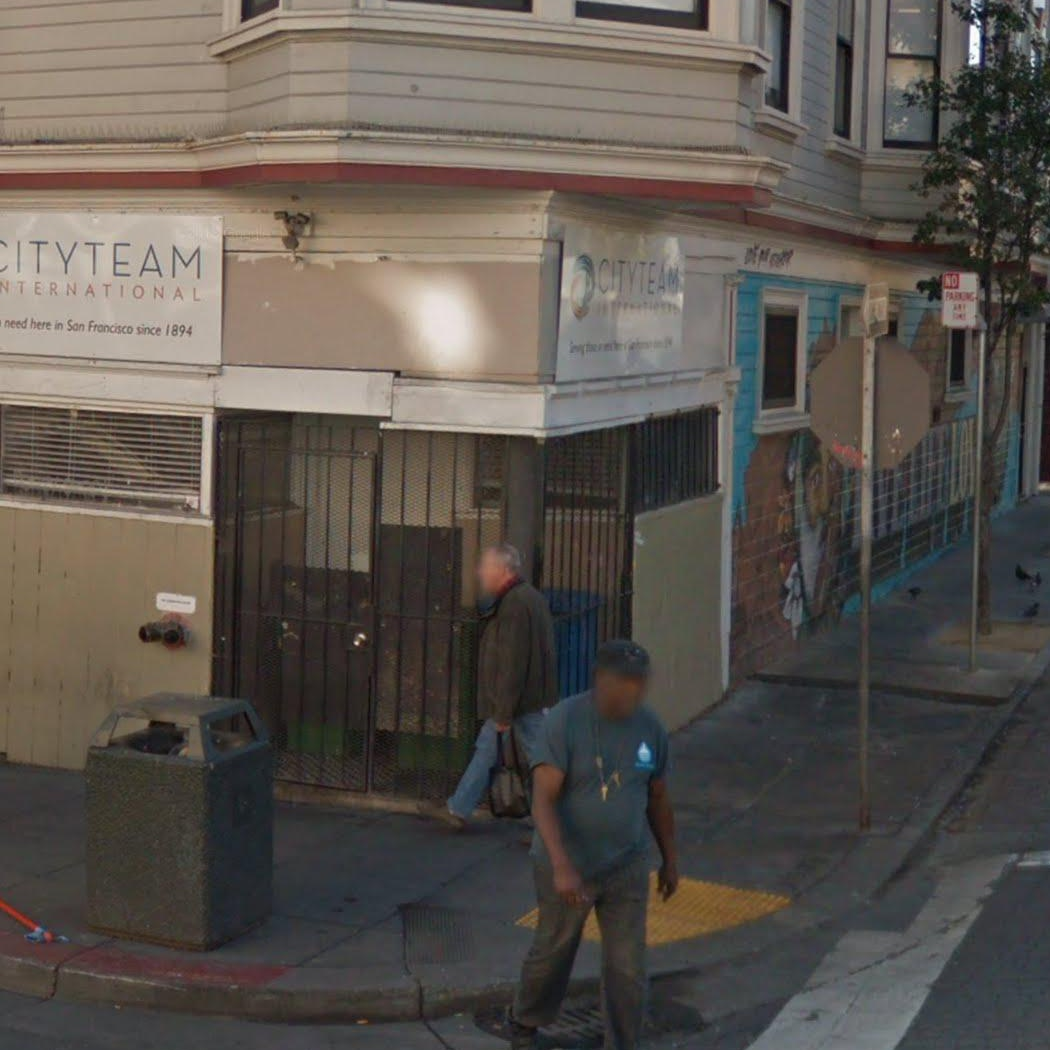No Parking Anytime: (938, 270, 980, 329)
